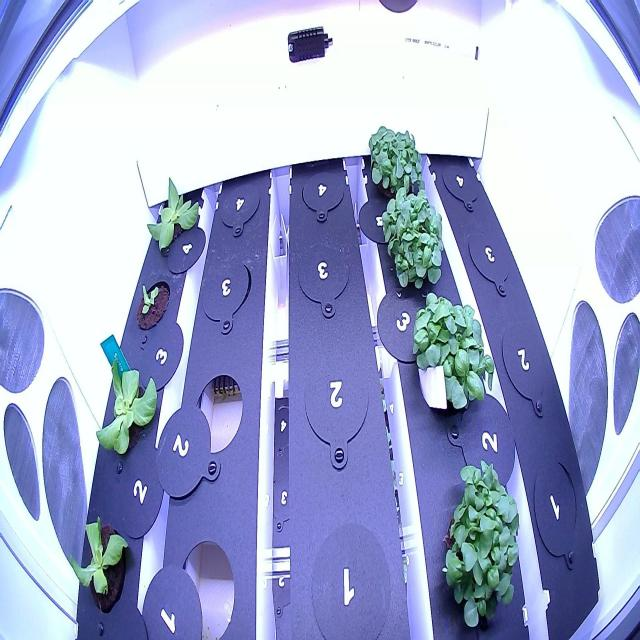empty_pod: (303, 508, 396, 639), (300, 340, 371, 476), (166, 526, 237, 640), (189, 354, 248, 472), (498, 304, 552, 430), (292, 225, 356, 329), (530, 451, 580, 574), (198, 239, 255, 340), (463, 214, 517, 302), (210, 169, 268, 248), (434, 144, 494, 217), (296, 156, 348, 231)
young: (88, 341, 165, 471), (60, 503, 137, 619), (144, 164, 202, 260), (134, 267, 174, 333)
